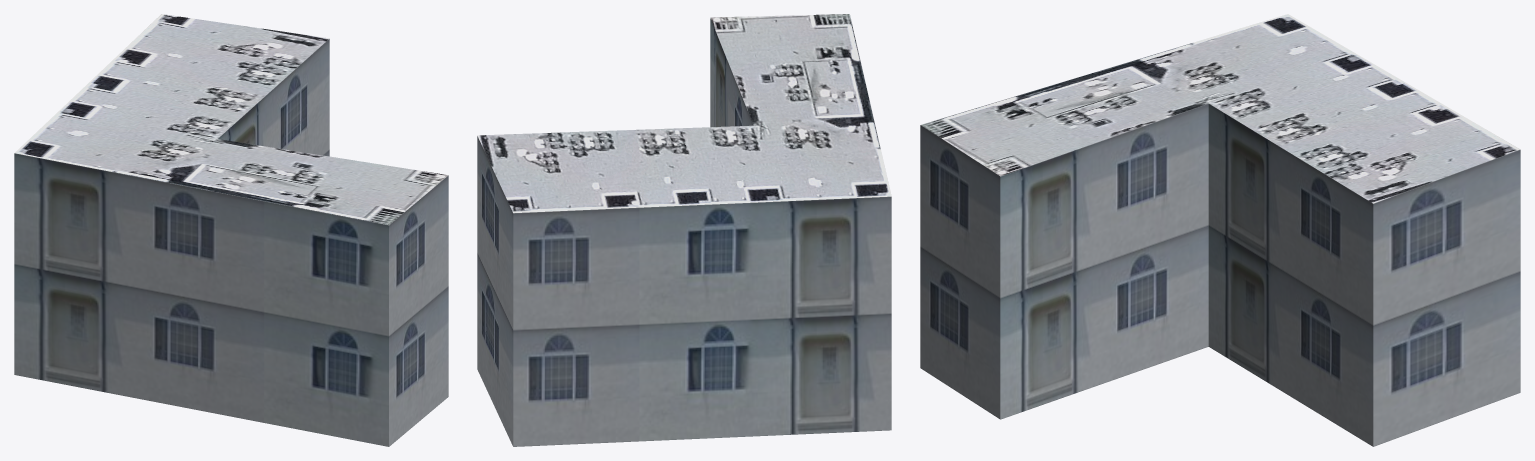
File: ResTex__1452.fbx
3 views of the same model, side by side, from view 1: azimuth 30°, elevation 25°; view 2: azimuth 150°, elevation 25°; view 3: azimuth 270°, elevation 25° (orthographic). The views are drawn at different scales.
Parts seen in each view (by area): view 1: CityEngineMaterial_17_m, CityEngineMaterial_4_m; view 2: CityEngineMaterial_17_m, CityEngineMaterial_4_m; view 3: CityEngineMaterial_17_m, CityEngineMaterial_4_m.
Part boxes in pixels (bbox=[...]): CityEngineMaterial_17_m: bbox=[14, 39, 448, 446]; CityEngineMaterial_4_m: bbox=[14, 14, 448, 225]; CityEngineMaterial_17_m: bbox=[477, 18, 891, 446]; CityEngineMaterial_4_m: bbox=[477, 14, 891, 213]; CityEngineMaterial_17_m: bbox=[920, 103, 1520, 446]; CityEngineMaterial_4_m: bbox=[921, 14, 1519, 203].
Size of the model in its own units: 10.03 by 6 by 13.41.
2 materials, 2 textured.
